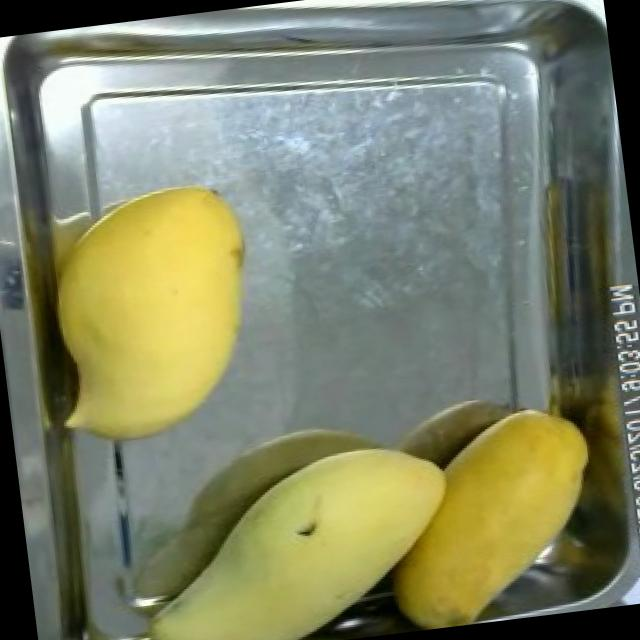fruit: (114, 416, 482, 640), (24, 164, 277, 465), (360, 388, 618, 634)
